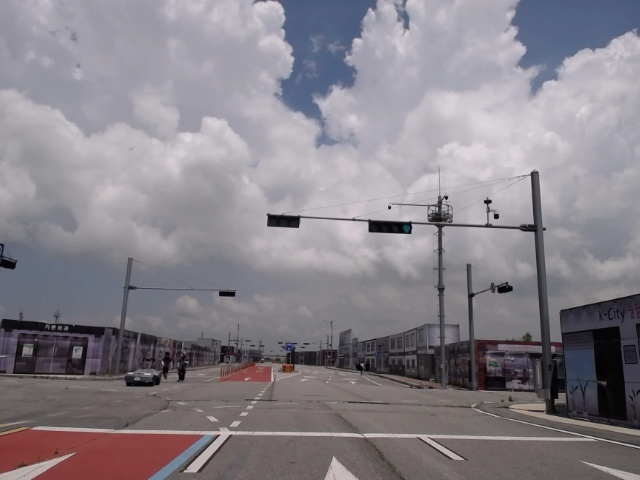straight_green_4: (369, 221, 411, 234)
